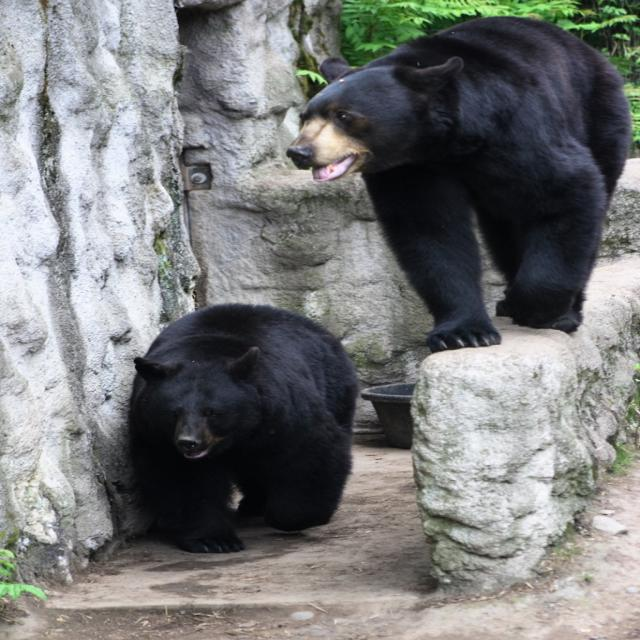Bear: (286, 16, 633, 353), (115, 302, 361, 554)
